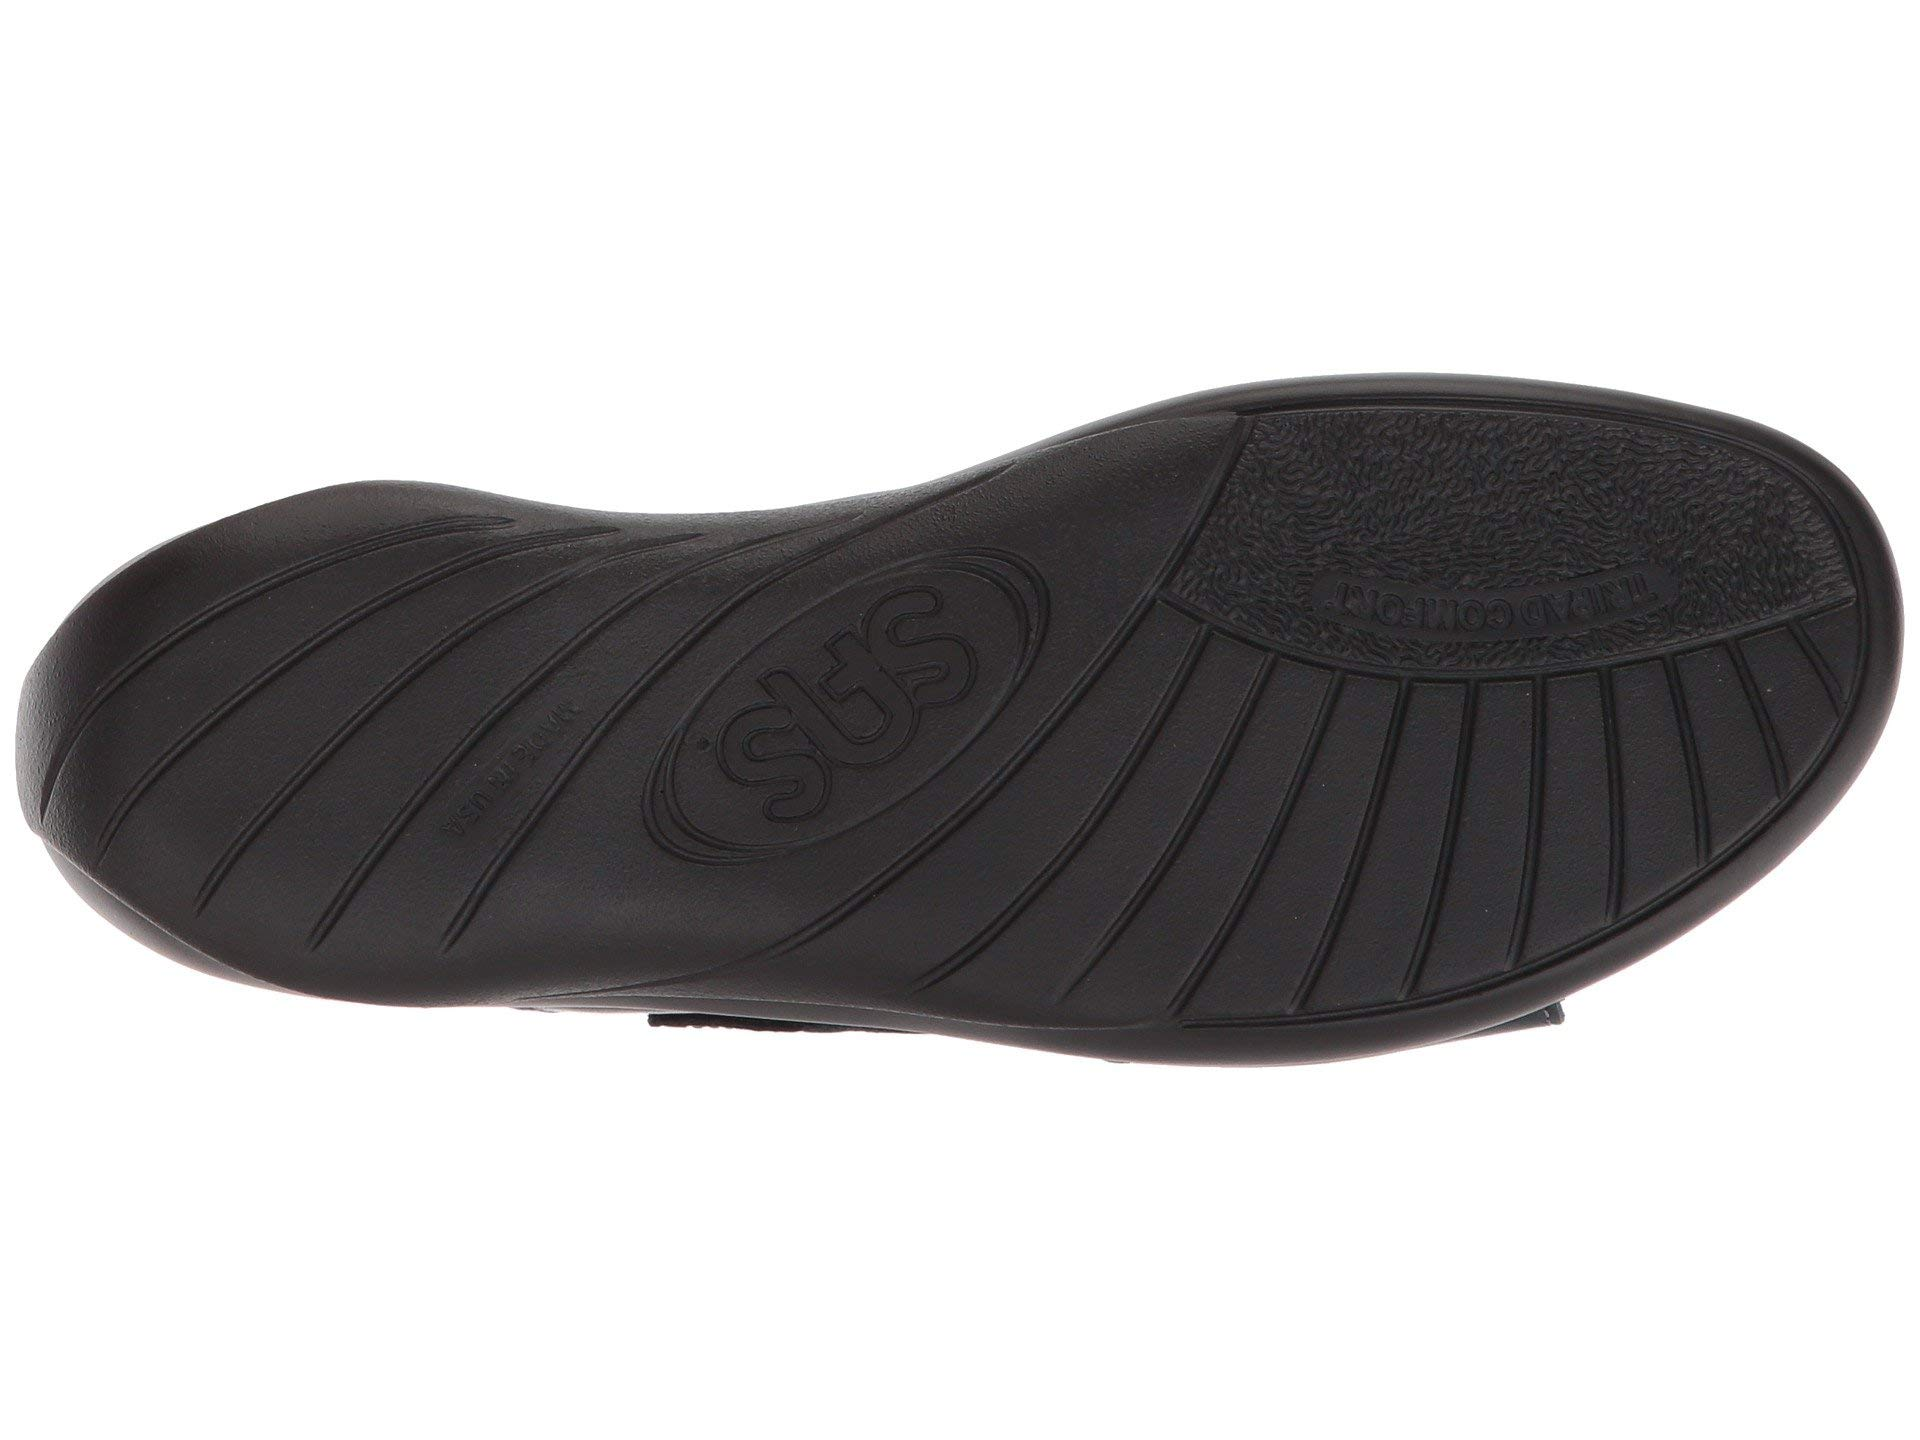circle: (556, 540, 1075, 861)
quad: (1290, 546, 1663, 650)
text: (556, 540, 1075, 861), (1290, 546, 1663, 650), (416, 696, 587, 850)
triangle: (1773, 588, 1881, 709)
